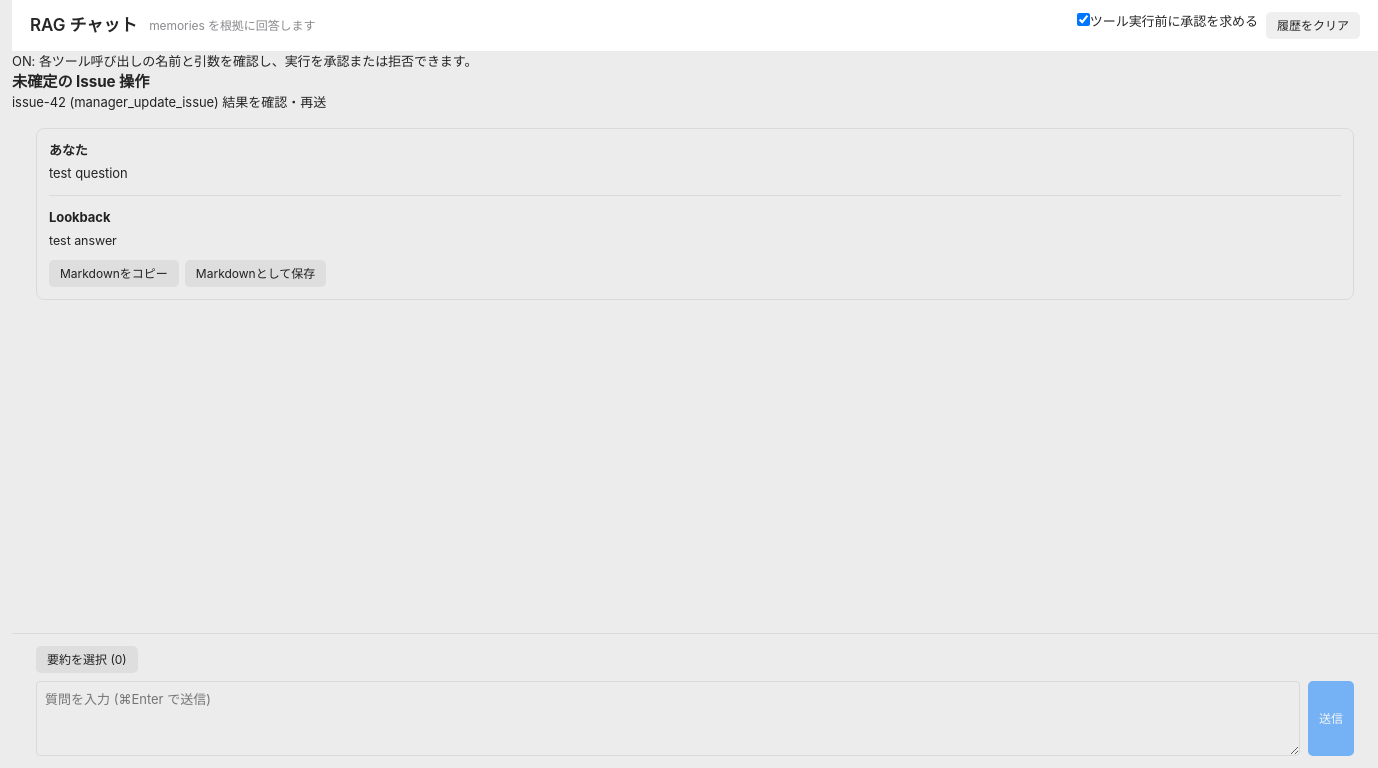
Test: pending Issue operation recovery › shows only redacted pending identifiers and retries the selected operation
Click the button "結果を確認・再送". click: (274, 103)
box: [222,93,326,112]
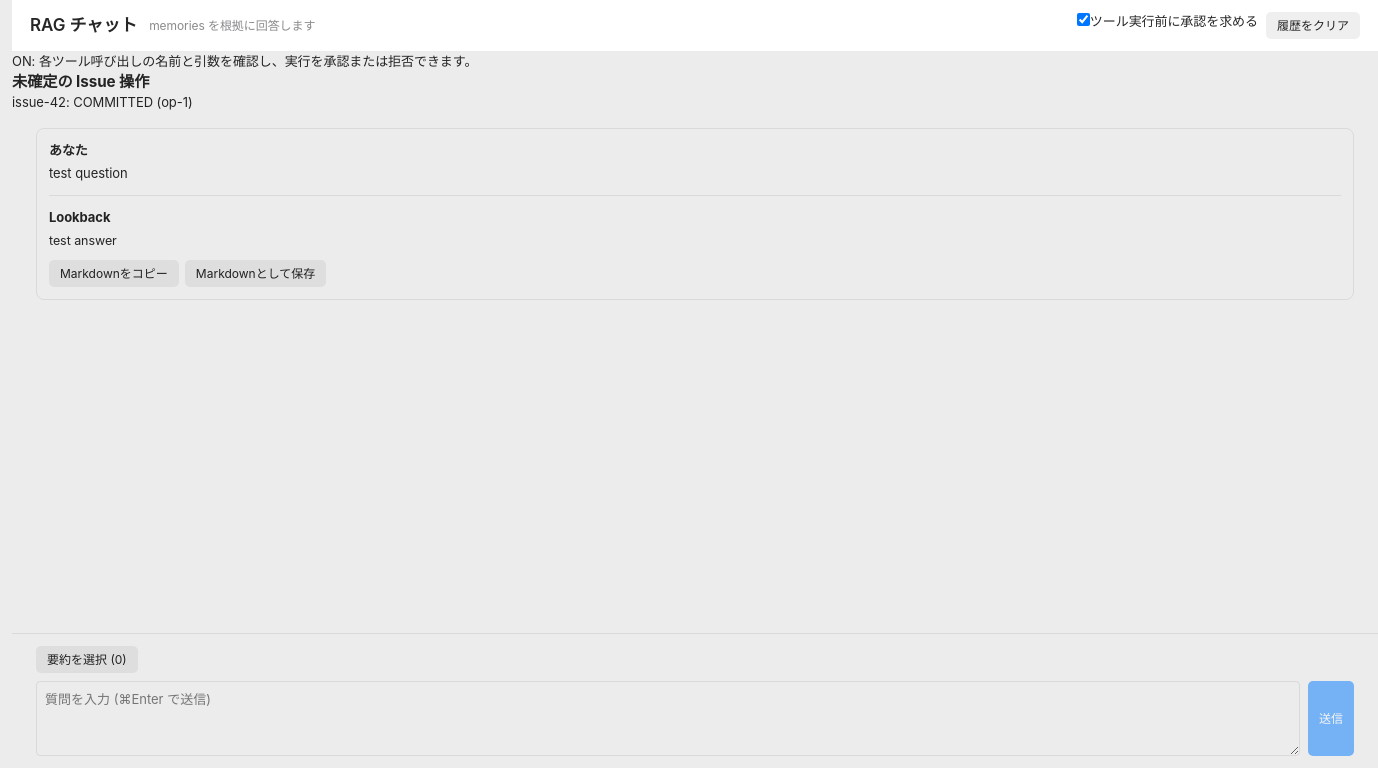
expect the text "issue-42: COMMITTED (op-1)" is shown: met, box [12,94,193,110]
